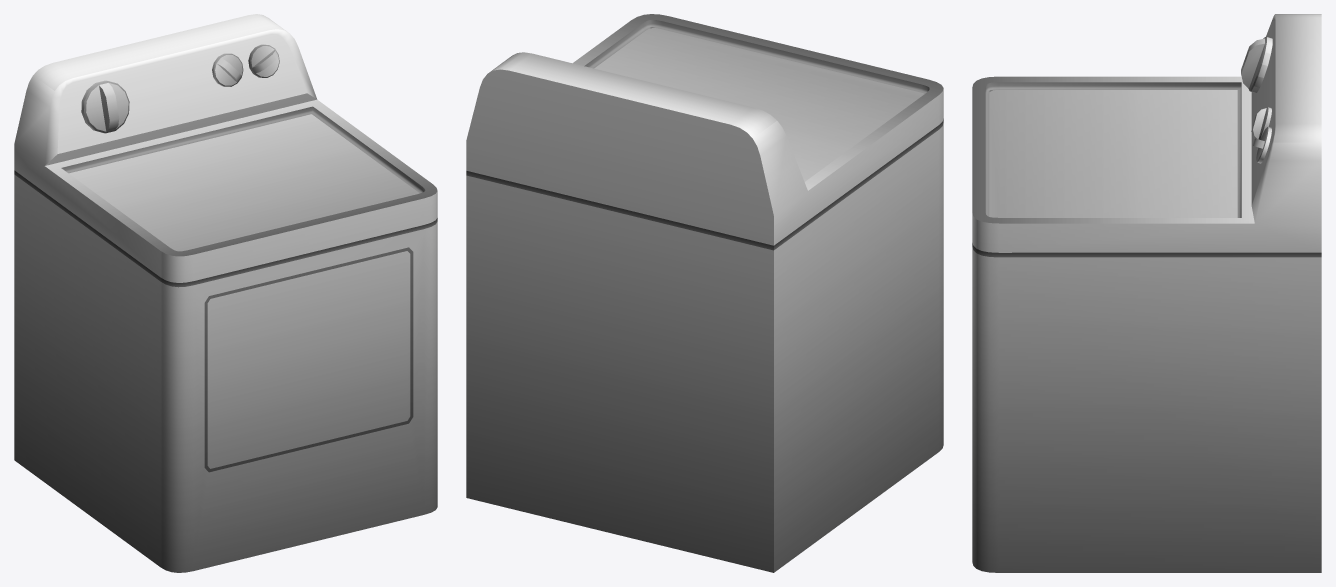
The model's file is Dryer.FBX.
3 renders of one model, left to right at view 1: azimuth 30°, elevation 25°; view 2: azimuth 150°, elevation 25°; view 3: azimuth 270°, elevation 25°, orthographic. The views are drawn at different scales.
Parts seen in each view (by area): view 1: Dryer; view 2: Dryer; view 3: Dryer.
Boxes of the visible parts, <box> form: Dryer: <box>14,14,437,572</box>; Dryer: <box>466,14,943,572</box>; Dryer: <box>972,14,1321,572</box>.
Size of the model in its own units: 90.96 by 124 by 91.46.
Materials: 1 (1 with a texture image).
